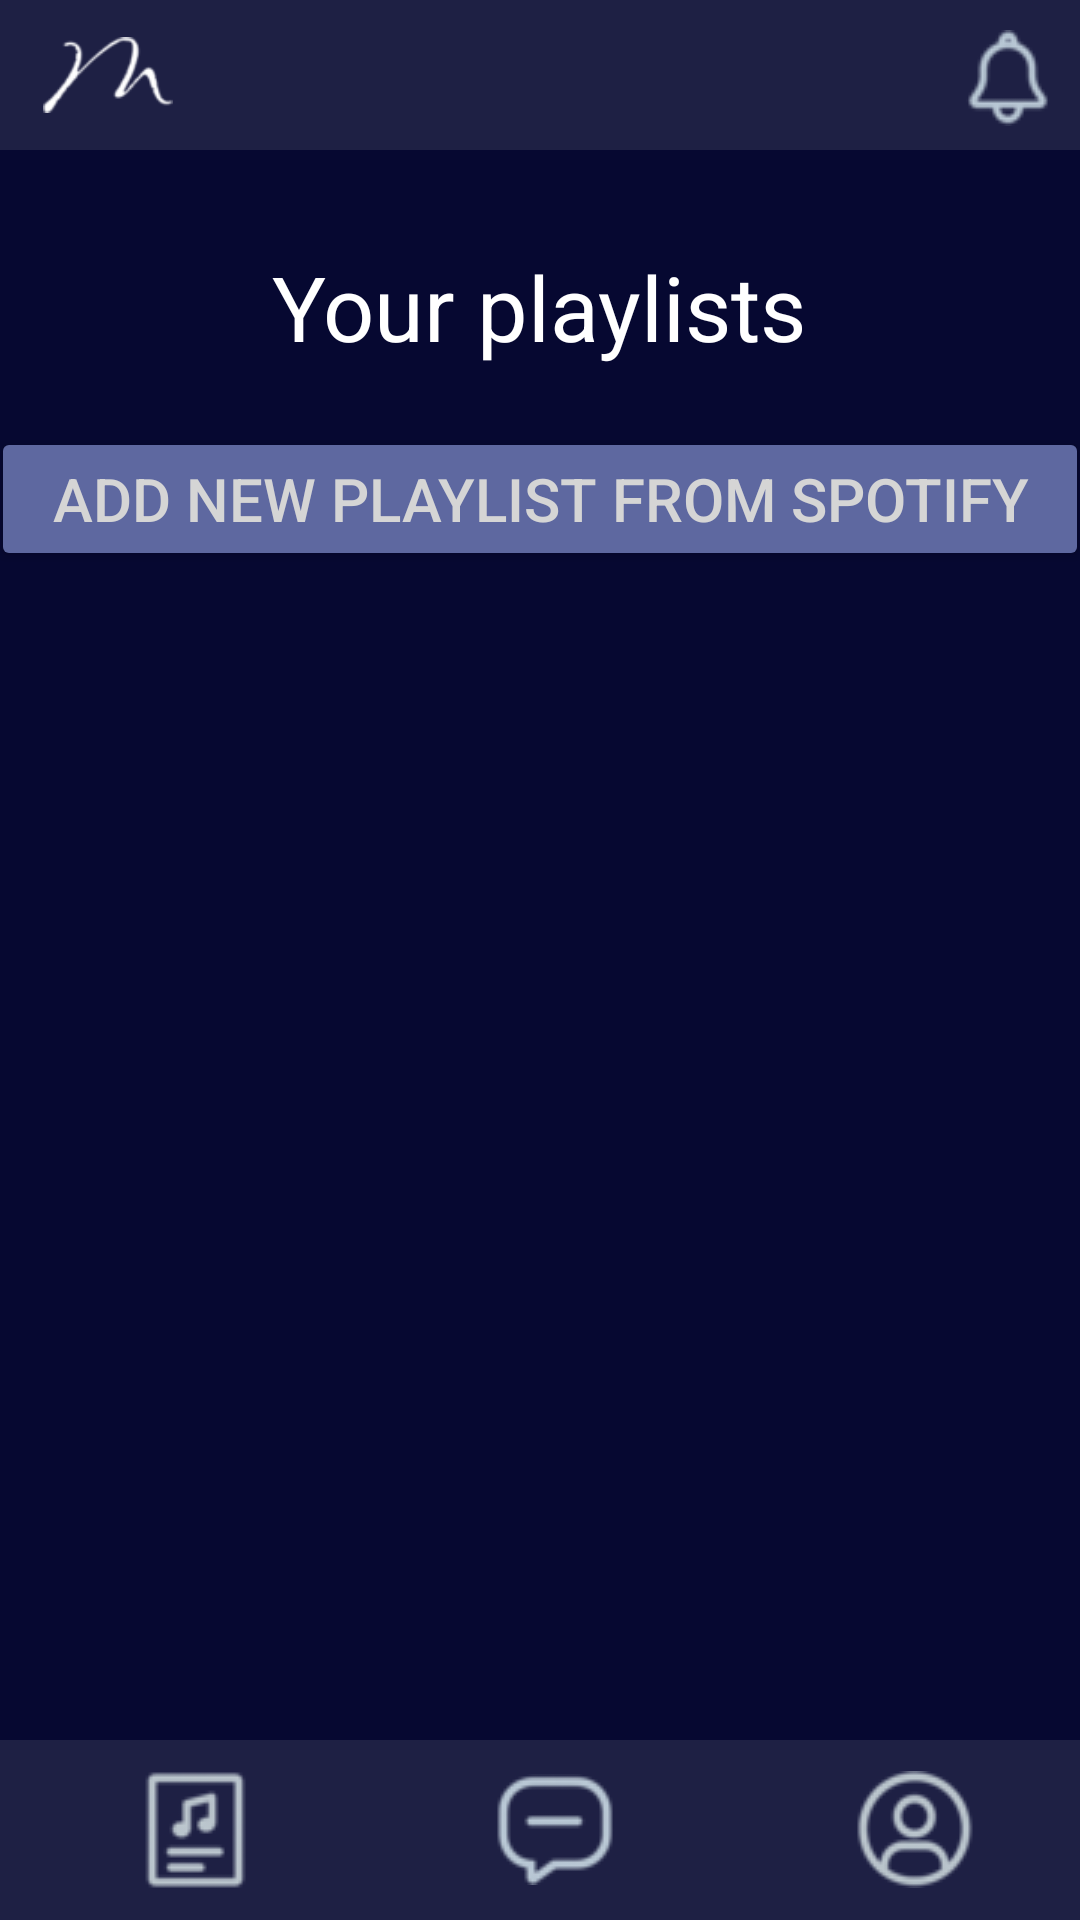

Point at icon controls on the screen. Image size 1080w x 1920h, points as point (x, y).
bell: point (1008, 77)
profile: point (914, 1829)
